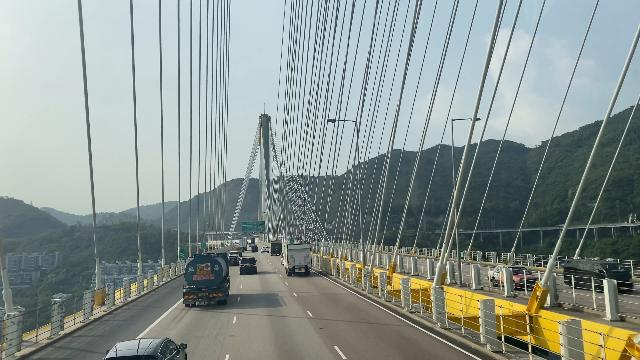car: (104, 334, 194, 360), (487, 266, 538, 288), (237, 257, 262, 277), (229, 255, 239, 265), (261, 245, 268, 254)
truck: (183, 252, 234, 312), (279, 239, 317, 281), (270, 239, 280, 257), (237, 236, 248, 251)
van: (559, 258, 629, 291), (253, 244, 257, 252)
